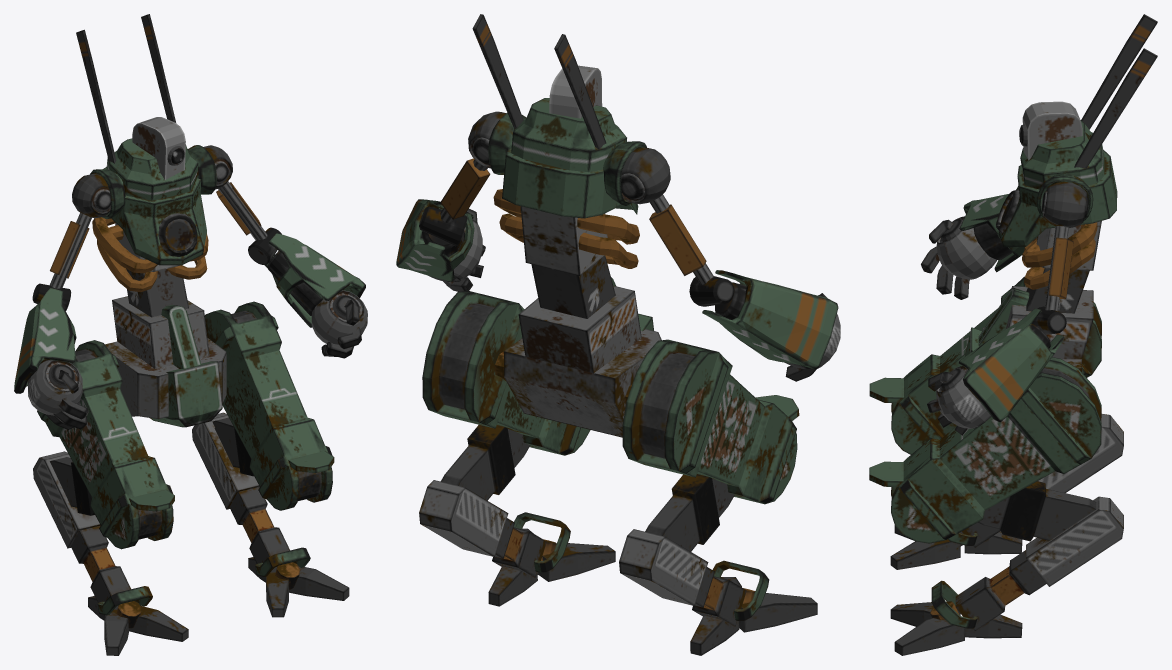
Rendered from boss_george.glb.
The picture shows the model from 3 angles, left to right: view 1: azimuth 30°, elevation 25°; view 2: azimuth 150°, elevation 25°; view 3: azimuth 270°, elevation 25°; orthographic projection. The views are drawn at different scales.
Visible parts, largest first — view 1: mesh_0; view 2: mesh_0; view 3: mesh_0.
Boxes of the visible parts, x1=… form: mesh_0: x1=14, y1=14, x2=367, y2=655; mesh_0: x1=396, y1=14, x2=840, y2=655; mesh_0: x1=869, y1=14, x2=1157, y2=655.
Size of the model in its own units: 1.6 by 2.35 by 1.09.
1 material, 1 textured.
